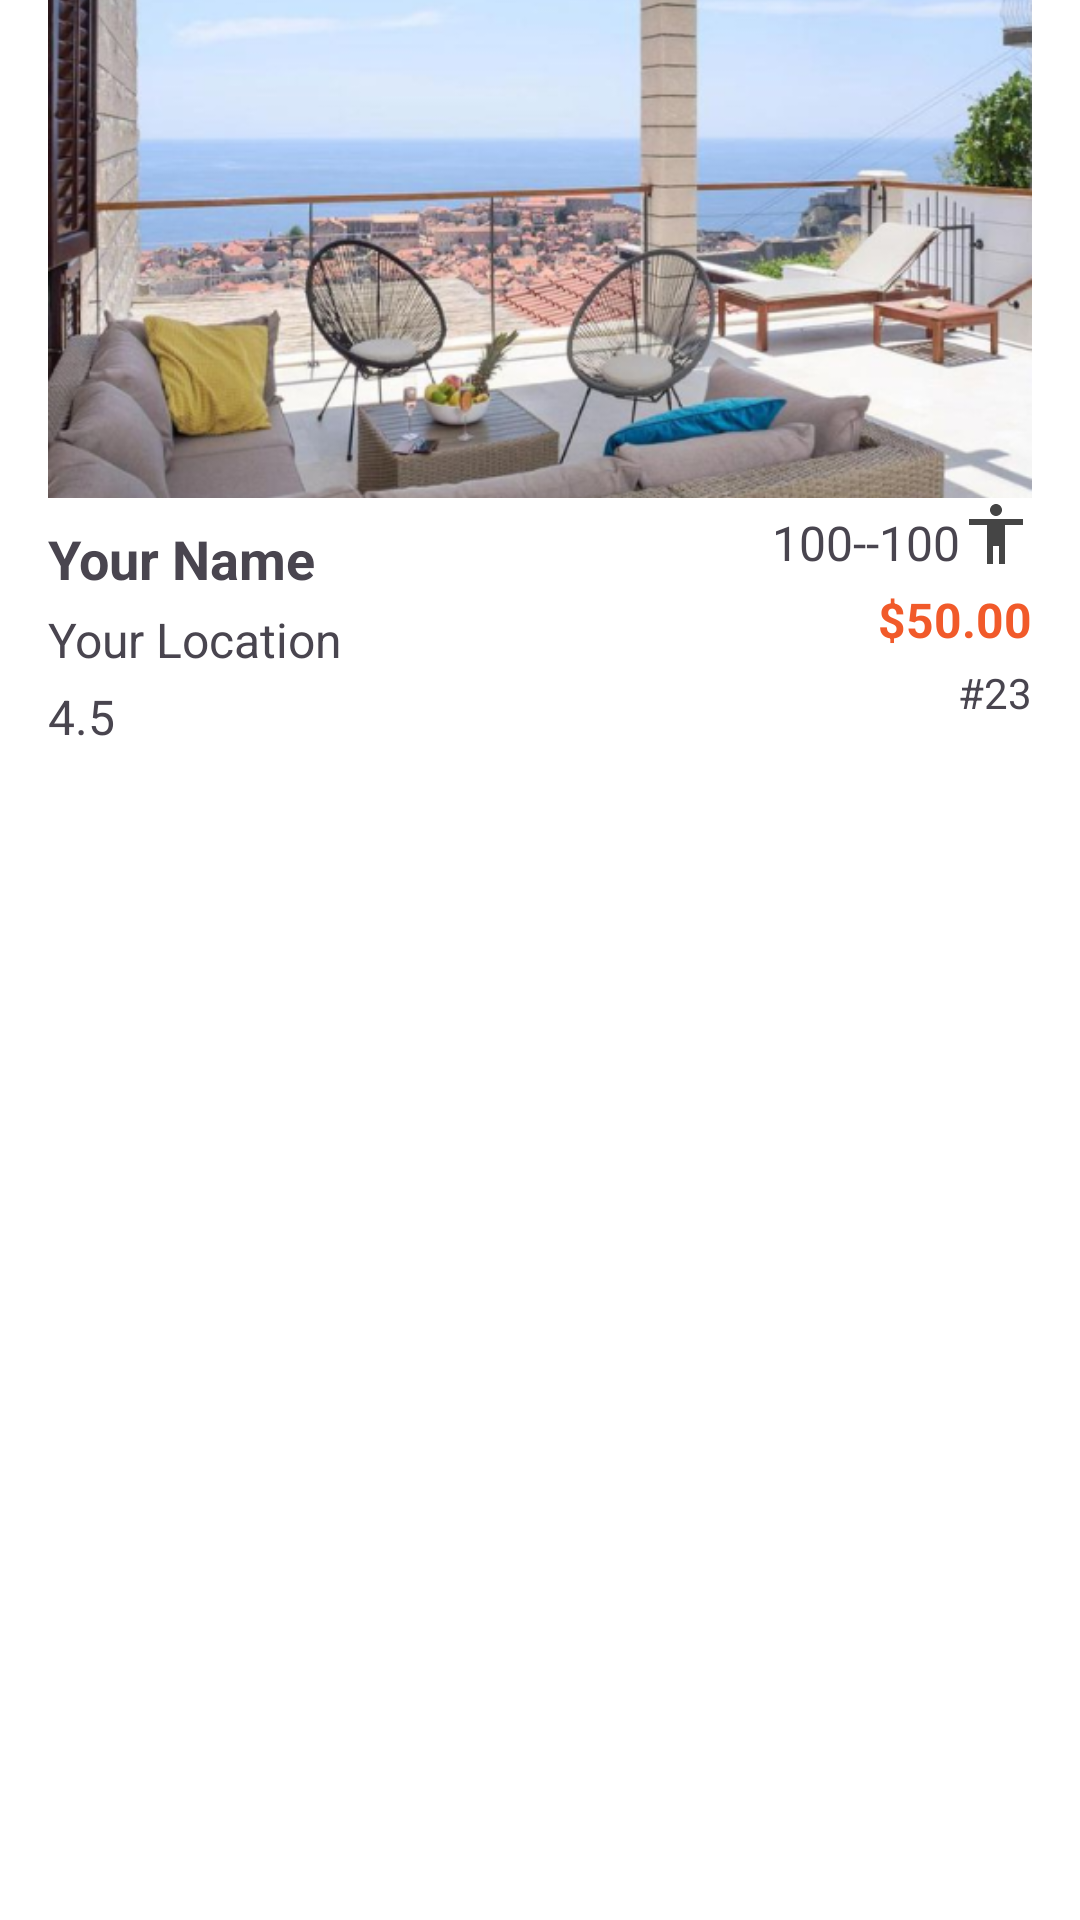

Icon bounding boxes for this 1080*1920 phone screenshot, format (x1, y1, x2, y2):
accessibility: (969, 504, 1023, 564)
